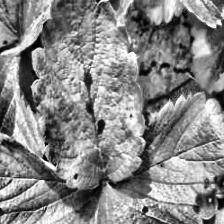Leaf Spot: (30, 0, 146, 191), (95, 91, 224, 224), (0, 132, 105, 224), (0, 0, 92, 57)
